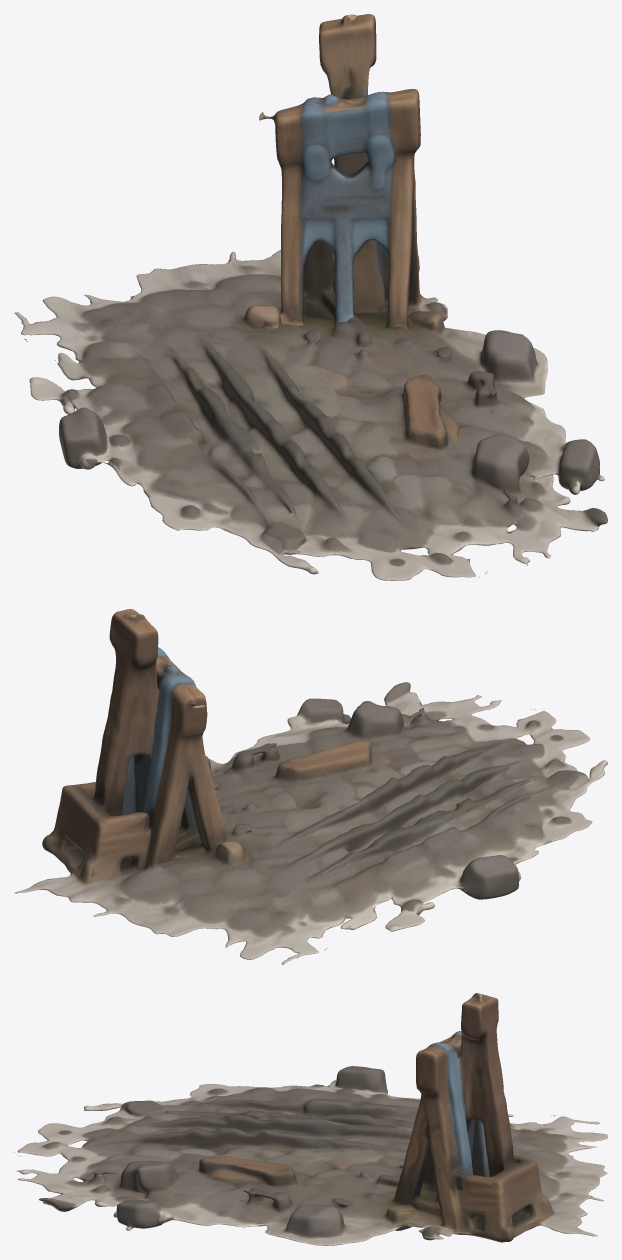
File: SM_Environment_Crater_01.fbx
3 views of the same model, one above another, from view 1: azimuth 30°, elevation 25°; view 2: azimuth 150°, elevation 25°; view 3: azimuth 270°, elevation 25° (orthographic). The views are drawn at different scales.
Visible parts, largest first — view 1: SM_Environment_Crater_01; view 2: SM_Environment_Crater_01; view 3: SM_Environment_Crater_01.
Boxes of the visible parts, x1,y1,x2,y2 form: SM_Environment_Crater_01: (14,14,607,580); SM_Environment_Crater_01: (14,609,607,964); SM_Environment_Crater_01: (14,993,607,1245).
Size of the model in its own units: 0.6676 by 0.4193 by 0.985.
Materials: 1 (1 with a texture image).
